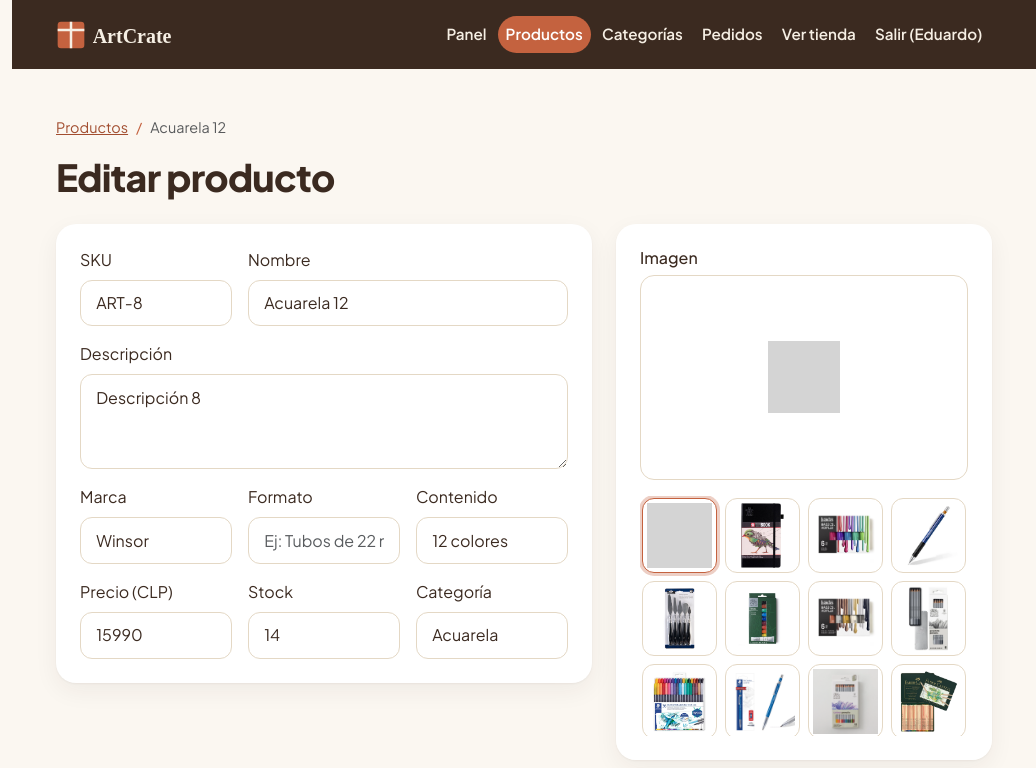
Test case: Formulario de producto › editar un producto › guardar actualiza ese producto (no crea uno nuevo) con los cambios
Expected: the heading "Editar producto" is shown, [56, 153, 335, 200]
Replace the text in the number field labelled "Stock" with "30" at (324, 635), box [248, 612, 400, 659]
(page scrolled)
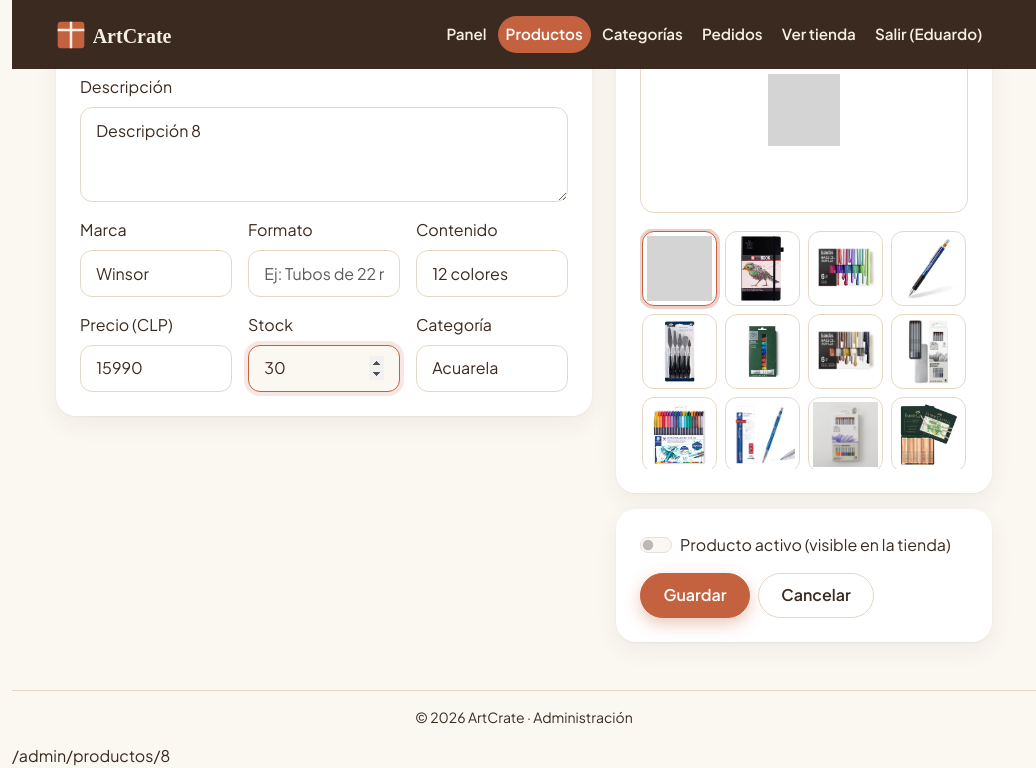
Click the checkbox labelled "Producto activo (visible en la tienda)" at (656, 545), box [640, 537, 672, 553]
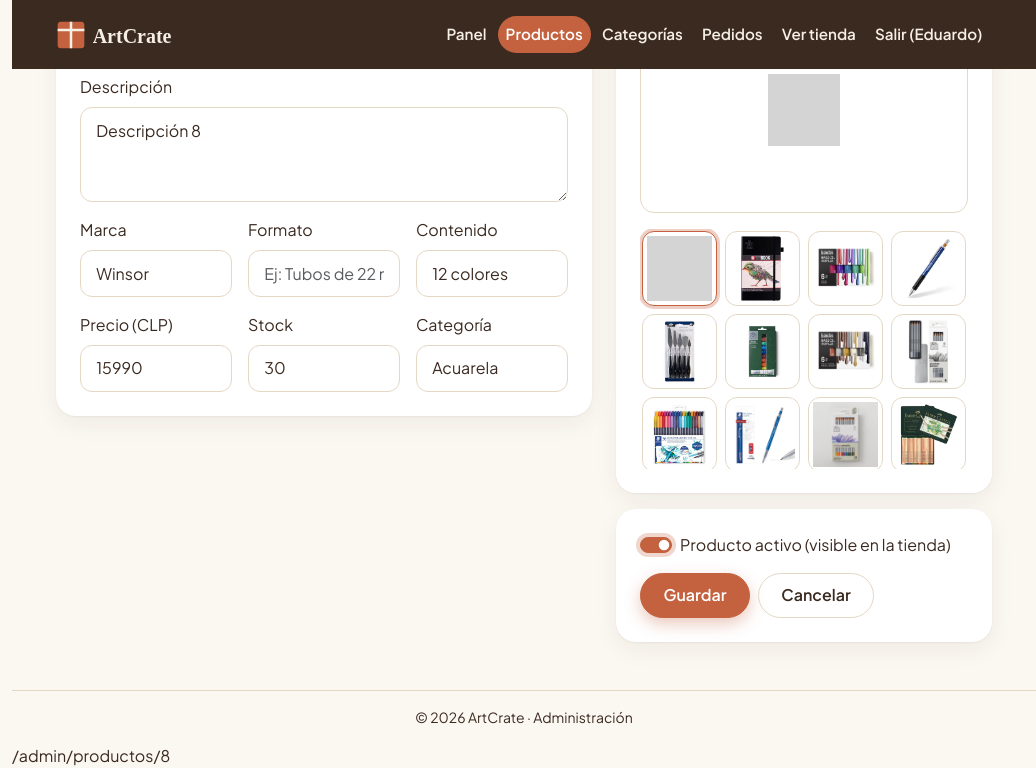
Click the button "Guardar" at (695, 595), box [640, 573, 750, 618]
(page scrolled)
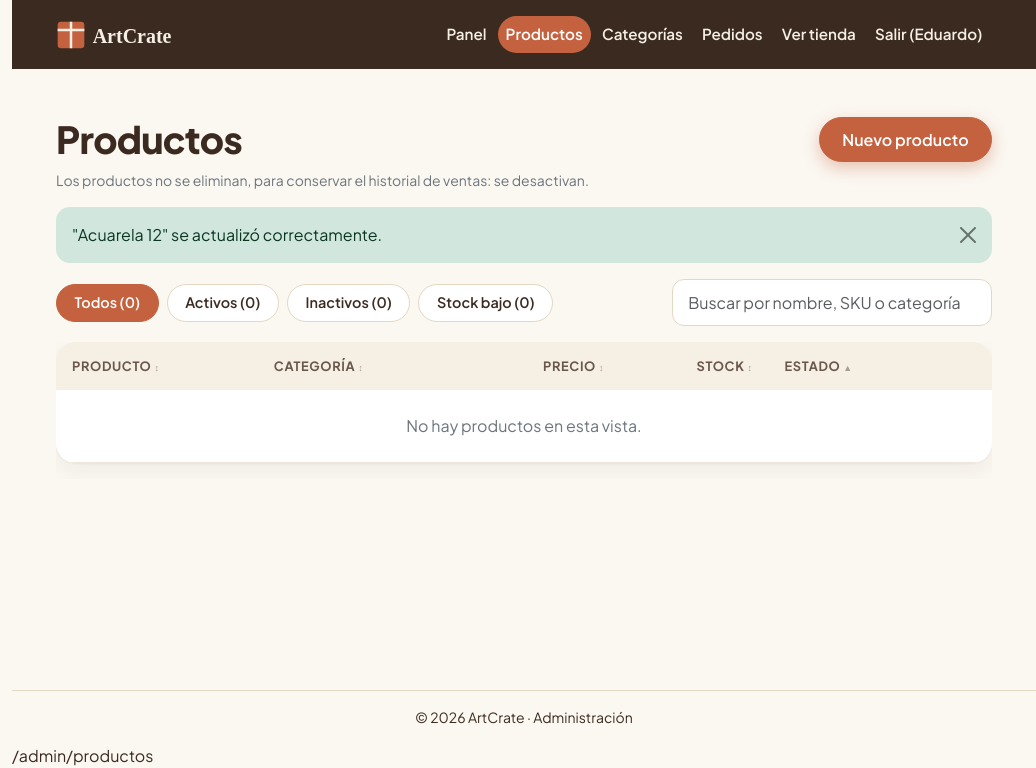
Now the text "\"Acuarela 12\" se actualizó correctamente." is shown, box [56, 207, 992, 263]
